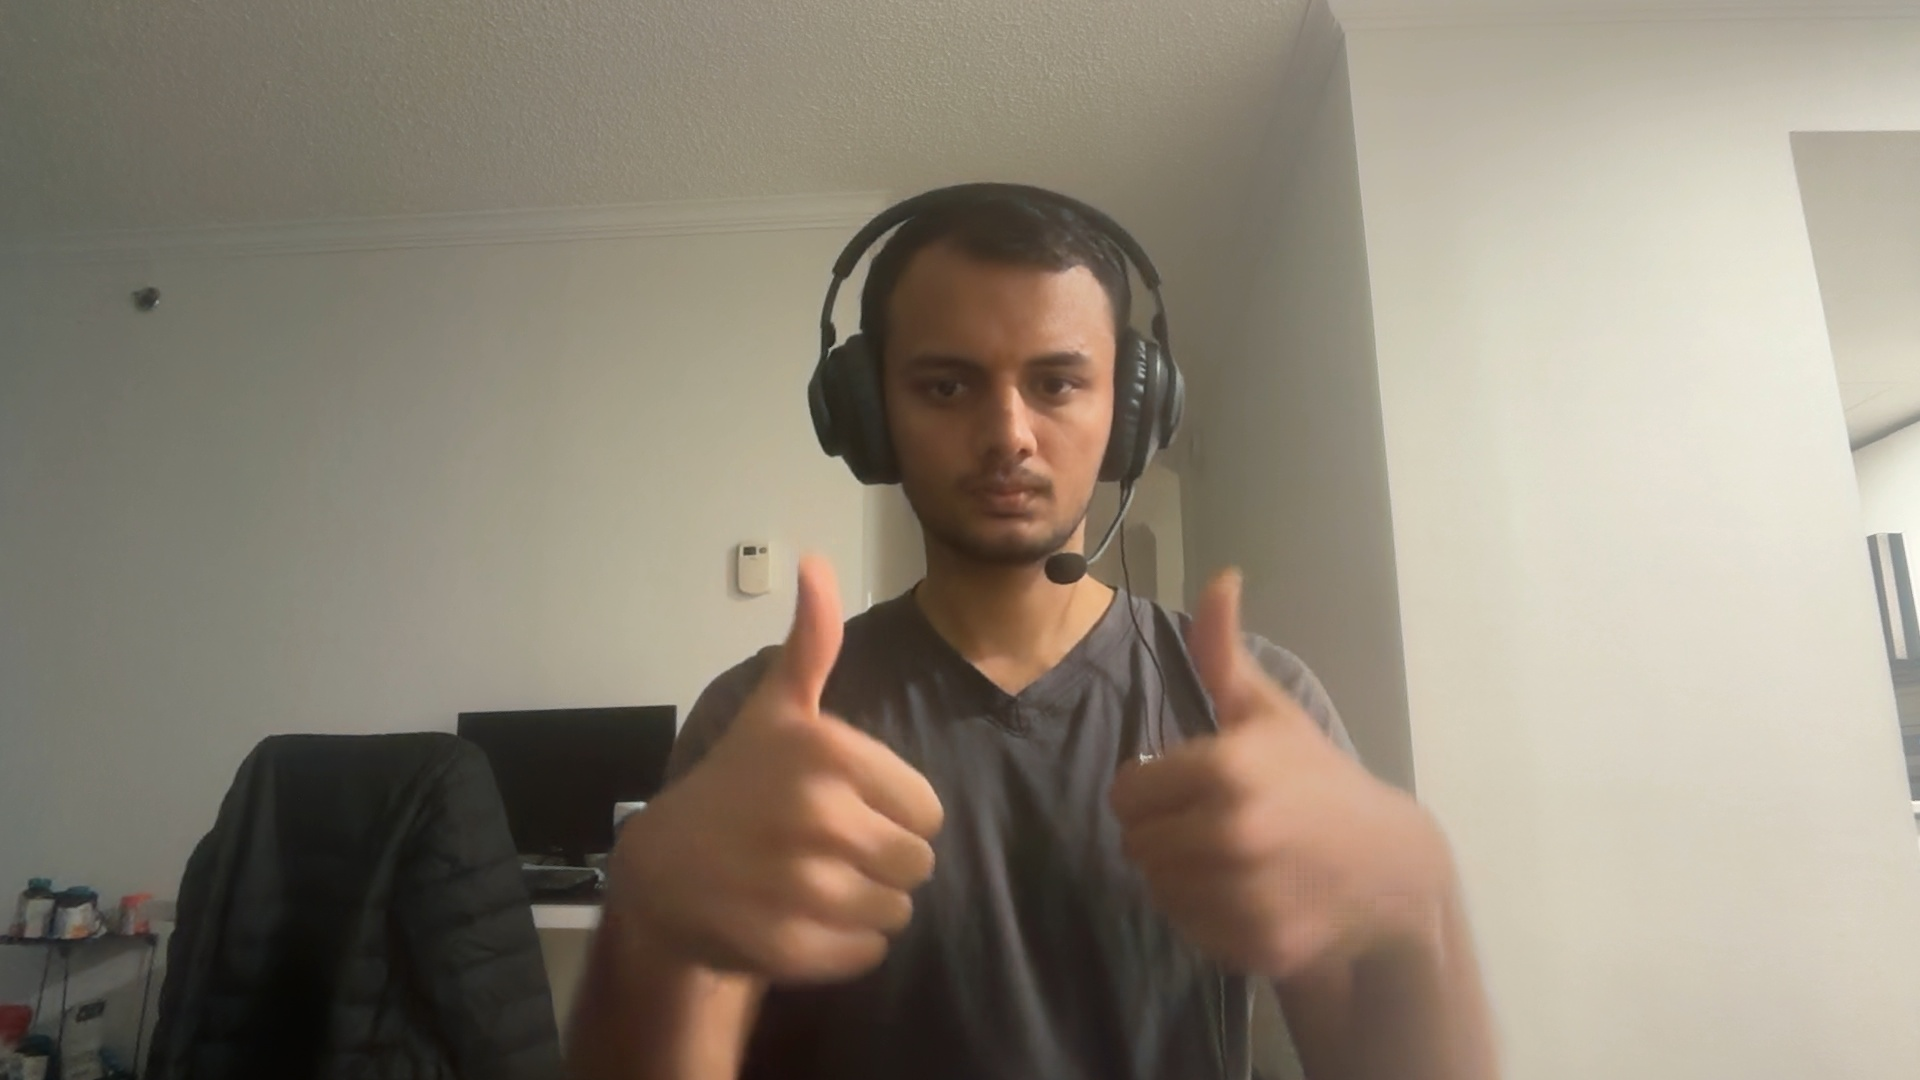thumbsup: (640, 556, 944, 986)
